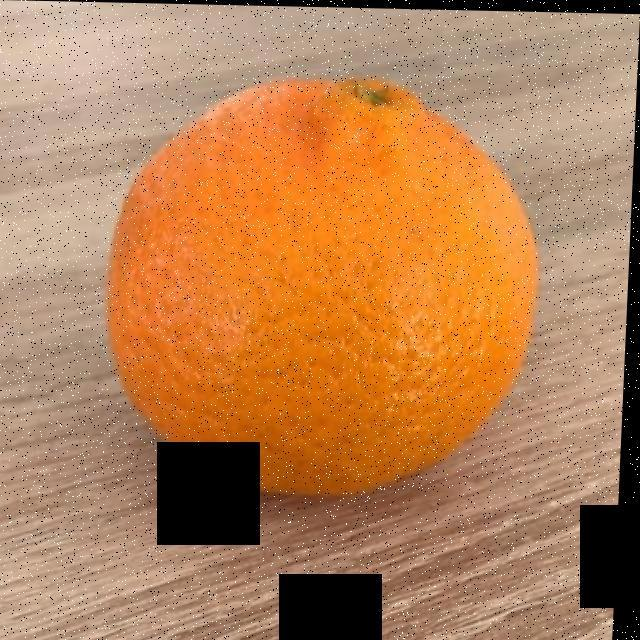mandarine: (113, 81, 535, 494)
